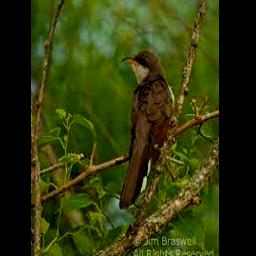Cuckoo: (118, 50, 175, 209)
